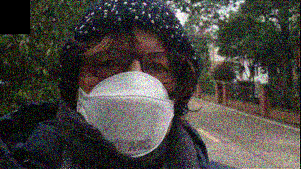with_mask: (76, 40, 180, 158)
